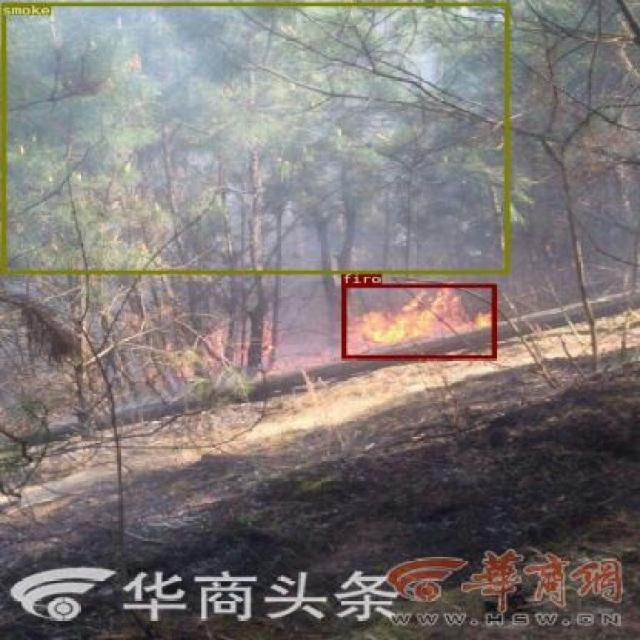Fire: (340, 283, 496, 359)
Smoke: (1, 1, 508, 274)
